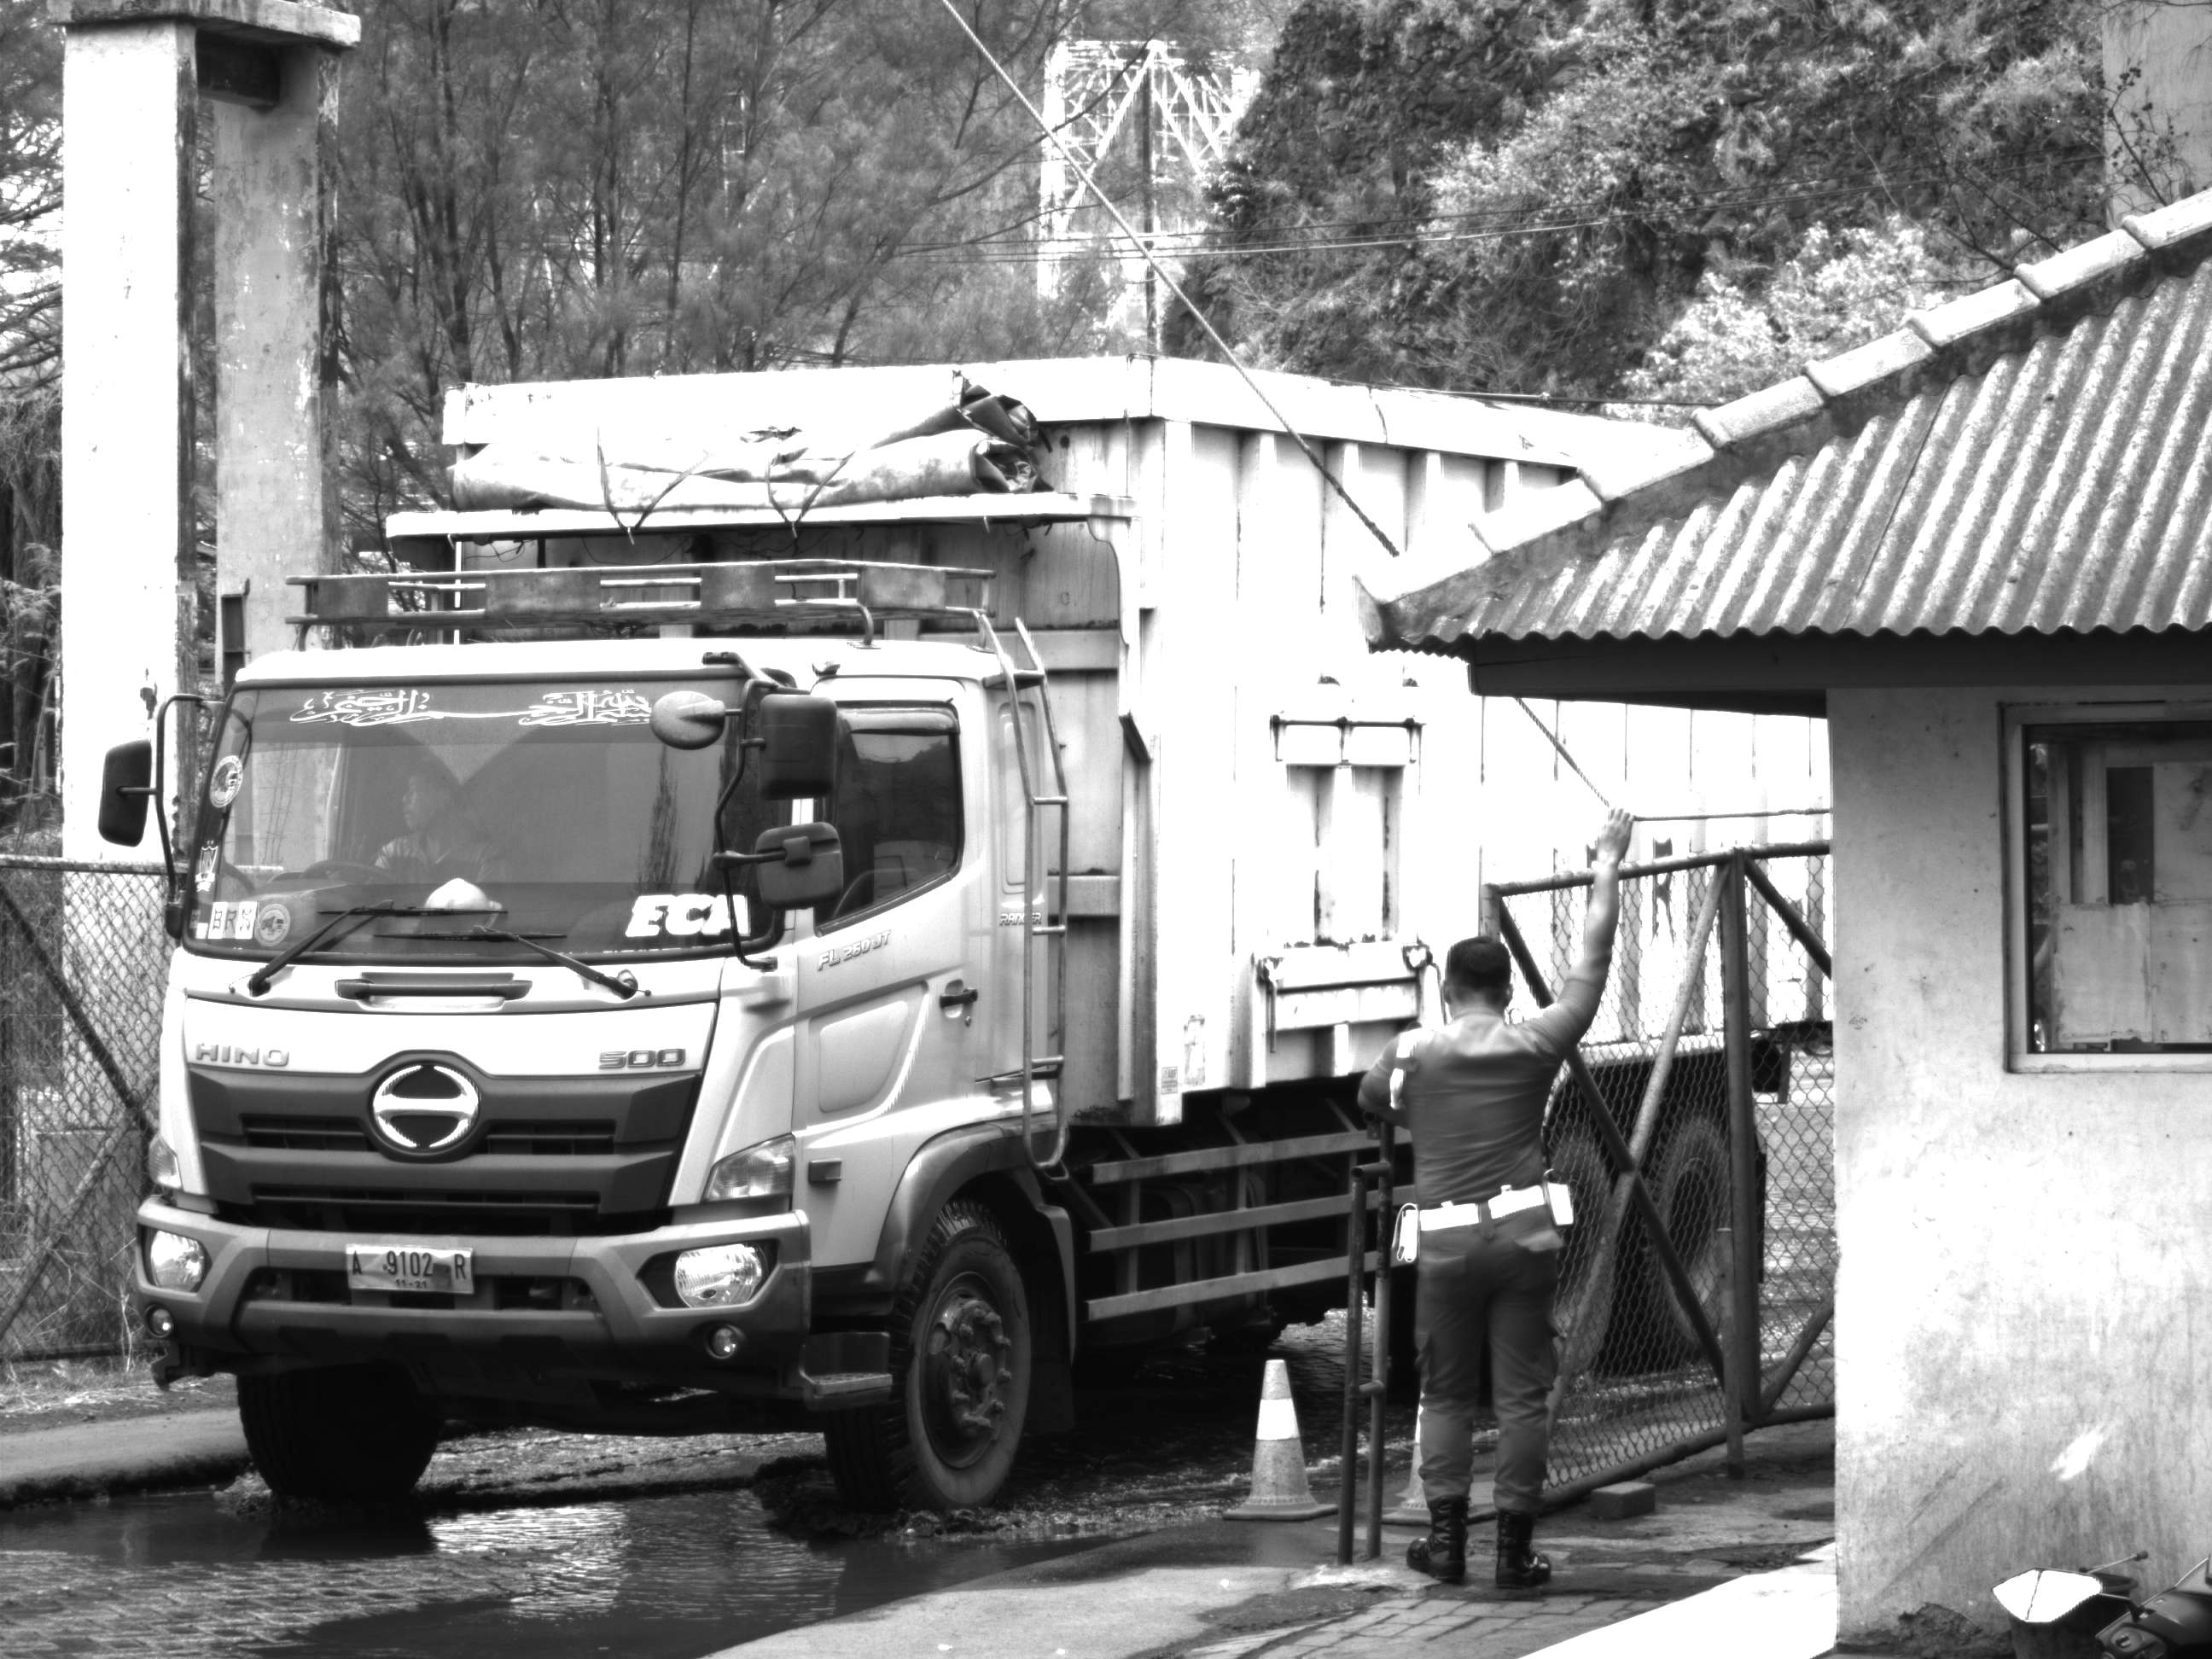day_truck_front: (125, 630, 1100, 1506)
plate: (341, 1237, 479, 1298)
